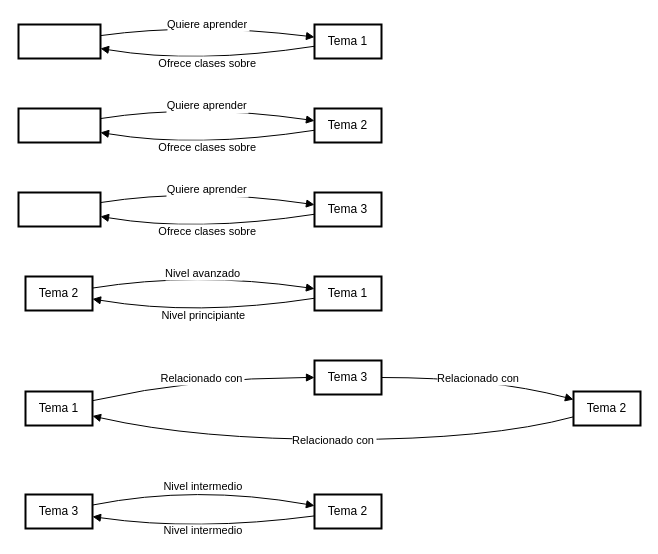
This 658x554 diagram has some shape labels left out. The centre of each missing label's shape, as x and y in pixels:
Usuario 1: [59,41]
Usuario 2: [59,125]
Usuario 3: [59,209]
